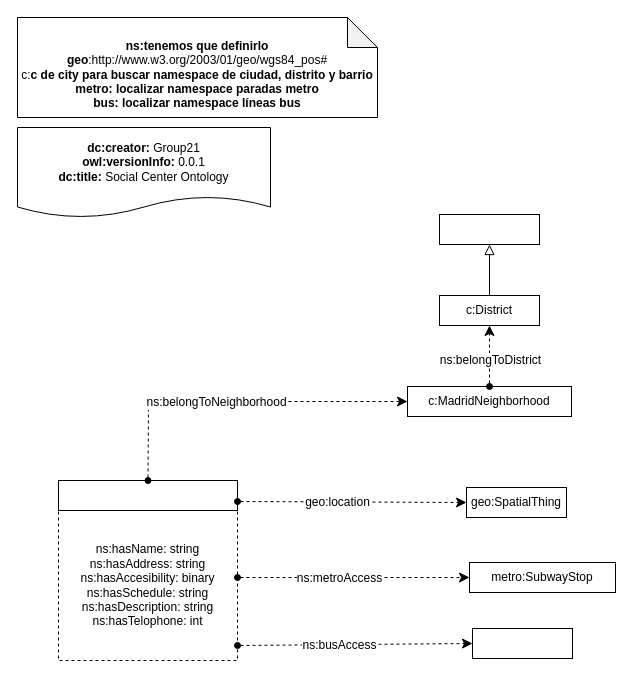
Image size: 633x678. Some labels were removed from this diagram. Each missing label, with the centre of its shape:
"bus:BusLine" goes at [522,643].
"c:City" goes at [489,229].
"ns:SocialCenter" goes at [148,495].
